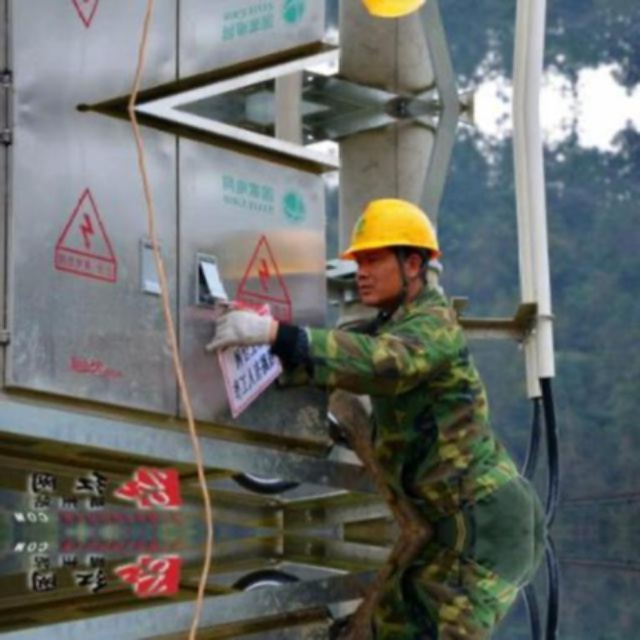helmet: (189, 185, 300, 316), (189, 0, 301, 29)
person: (90, 195, 392, 528), (88, 534, 392, 637)
